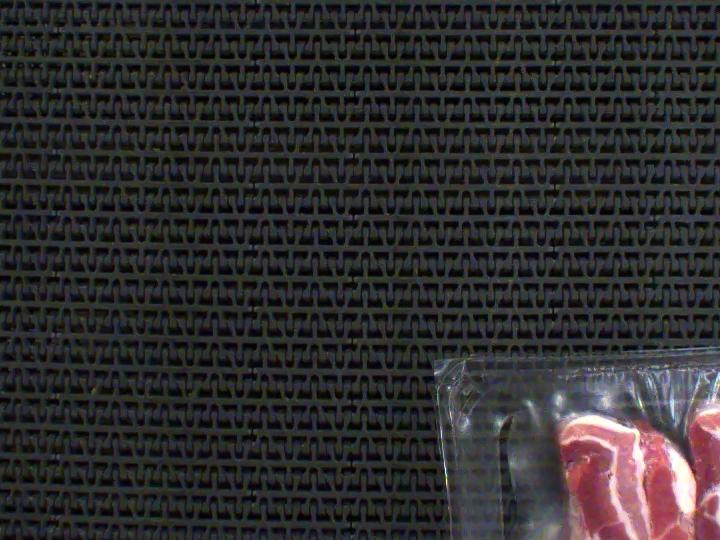unsealed: (433, 325, 720, 540)
